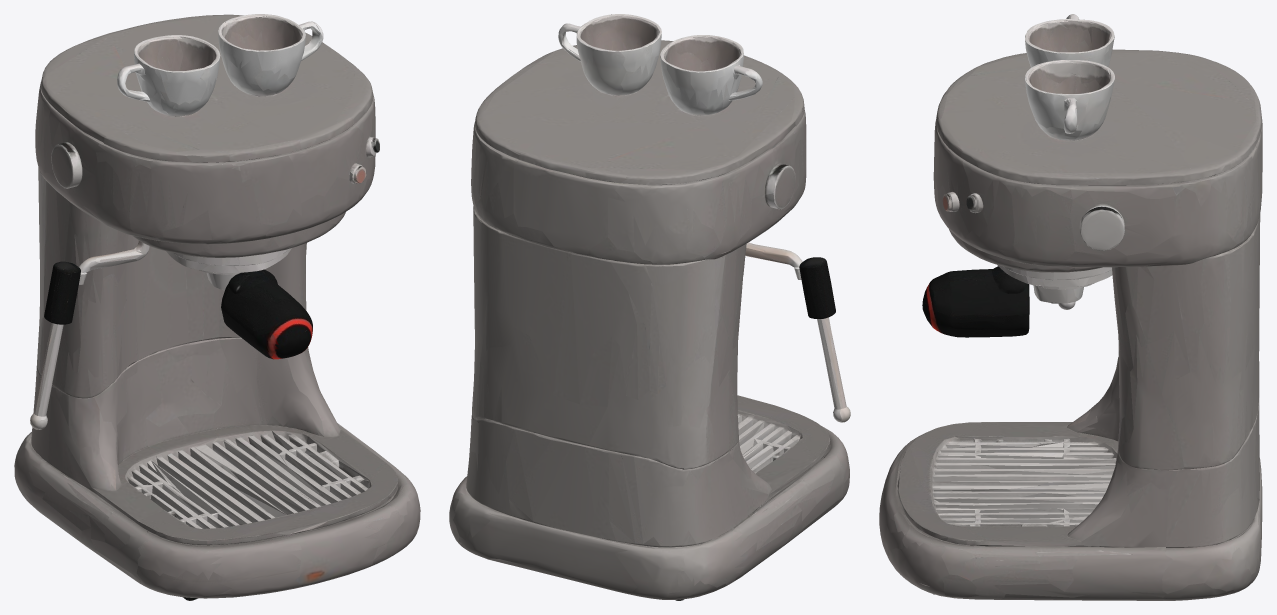
Rendered from coffee_machine.glb.
The picture shows the model from 3 angles, left to right: view 1: azimuth 30°, elevation 25°; view 2: azimuth 150°, elevation 25°; view 3: azimuth 270°, elevation 25°; orthographic projection.
Bounding box in the file's own units: 1.4 × 1.9 × 1.36.
Materials: 1 (1 with a texture image).
